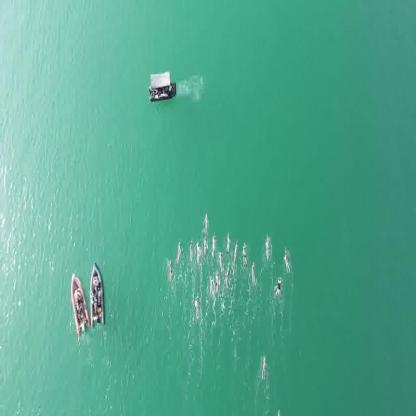Boat: (70, 271, 86, 333), (89, 264, 105, 326)
